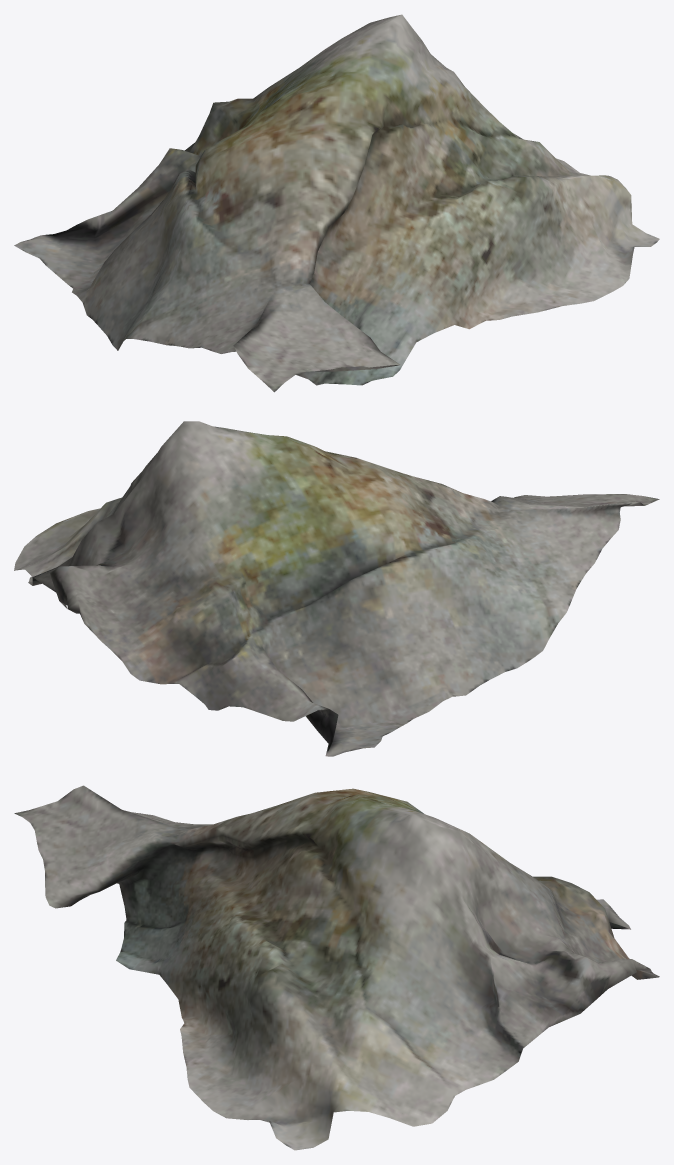
Rendered from bunPaper02.FBX.
3 views of the same model, one above another, from view 1: azimuth 30°, elevation 25°; view 2: azimuth 150°, elevation 25°; view 3: azimuth 270°, elevation 25° (orthographic). The views are drawn at different scales.
Parts seen in each view (by area): view 1: SM_BunPaper02; view 2: SM_BunPaper02; view 3: SM_BunPaper02.
Part boxes in pixels (x1,y1,x2,y2): SM_BunPaper02: (14, 14, 659, 392); SM_BunPaper02: (14, 421, 659, 756); SM_BunPaper02: (14, 785, 659, 1150).
Size of the model in its own units: 14.06 by 5.8 by 14.19.
1 material, 1 textured.
